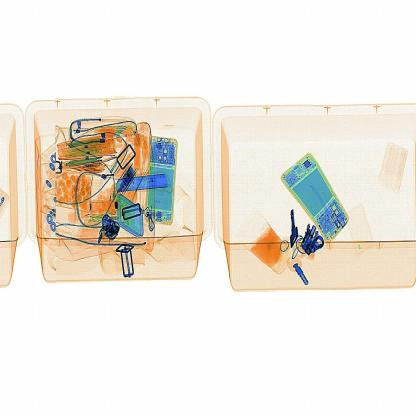pliers: (108, 170, 174, 201)
